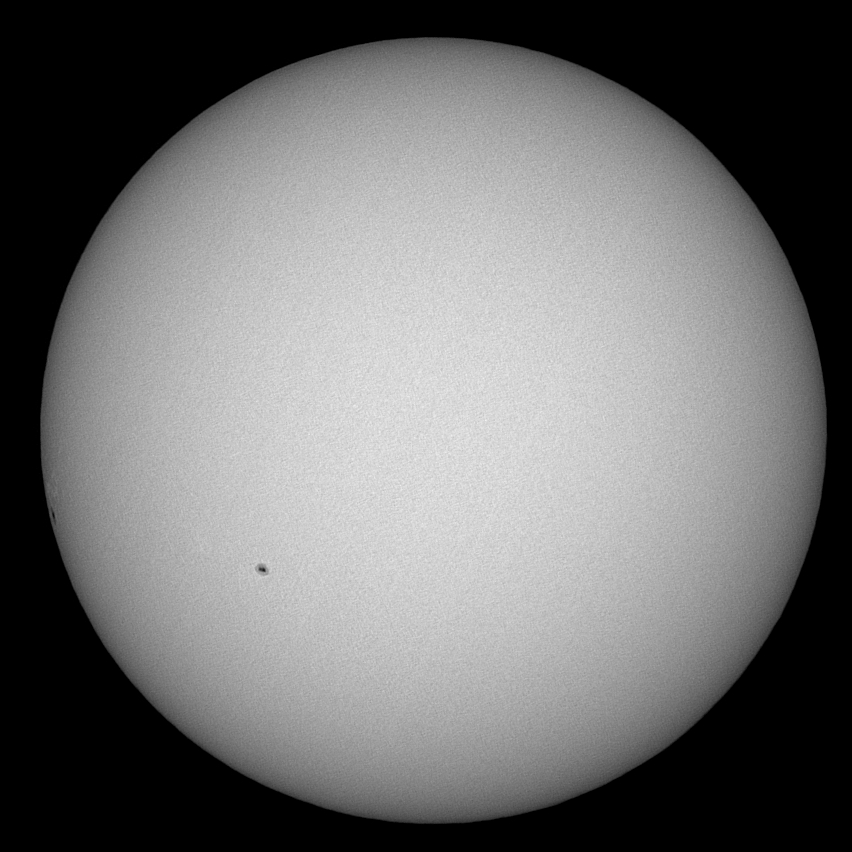sunspot: (251, 558, 272, 577)
